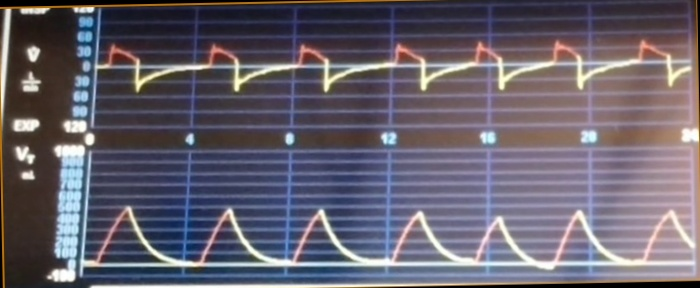Normal Flow: (101, 20, 690, 109)
Normal Volume: (89, 194, 694, 273)
